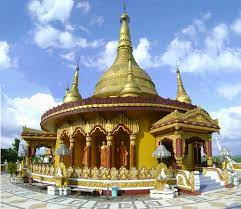Temple: (18, 4, 224, 192)
